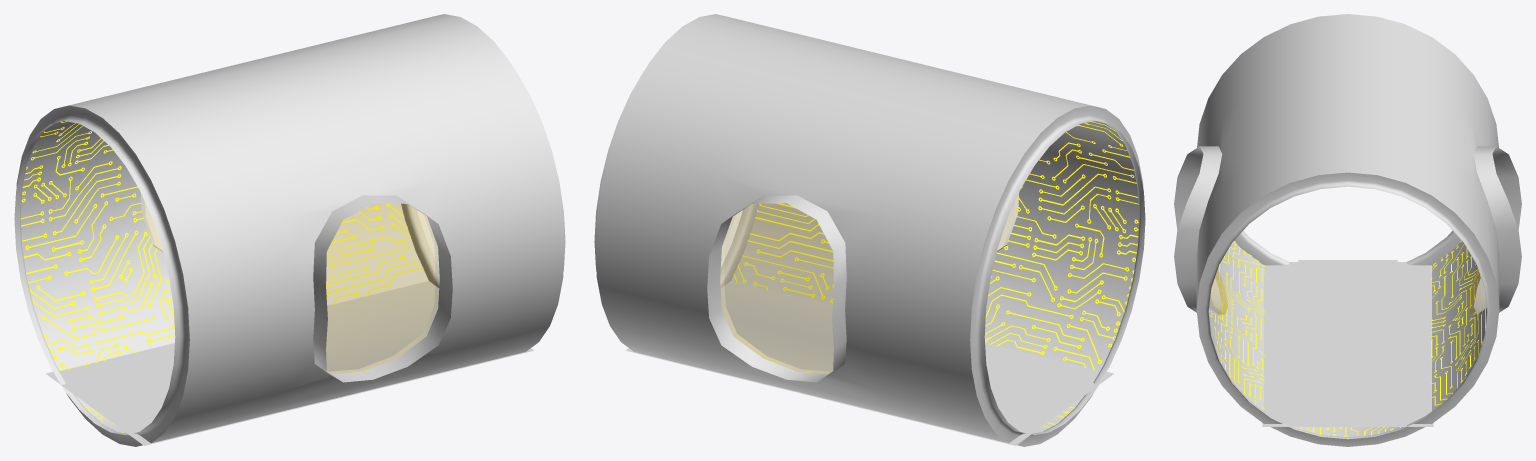
Rendered from Corridor_01_BridgeNoDeco.fbx.
The picture shows the model from 3 angles, left to right: view 1: azimuth 30°, elevation 25°; view 2: azimuth 150°, elevation 25°; view 3: azimuth 270°, elevation 25°; orthographic projection. The views are drawn at different scales.
Parts seen in each view (by area): view 1: Tunnel, DataPath; view 2: Tunnel, DataPath; view 3: Tunnel, DataPath.
Boxes of the visible parts, left/top/right/bottom form: Tunnel: left=14, top=14, right=565, bottom=446; DataPath: left=46, top=281, right=534, bottom=445; Tunnel: left=594, top=14, right=1145, bottom=446; DataPath: left=625, top=281, right=1113, bottom=445; Tunnel: left=1174, top=14, right=1521, bottom=446; DataPath: left=1262, top=260, right=1433, bottom=426.
Bounding box in the file's own units: 600 × 465 × 535.
